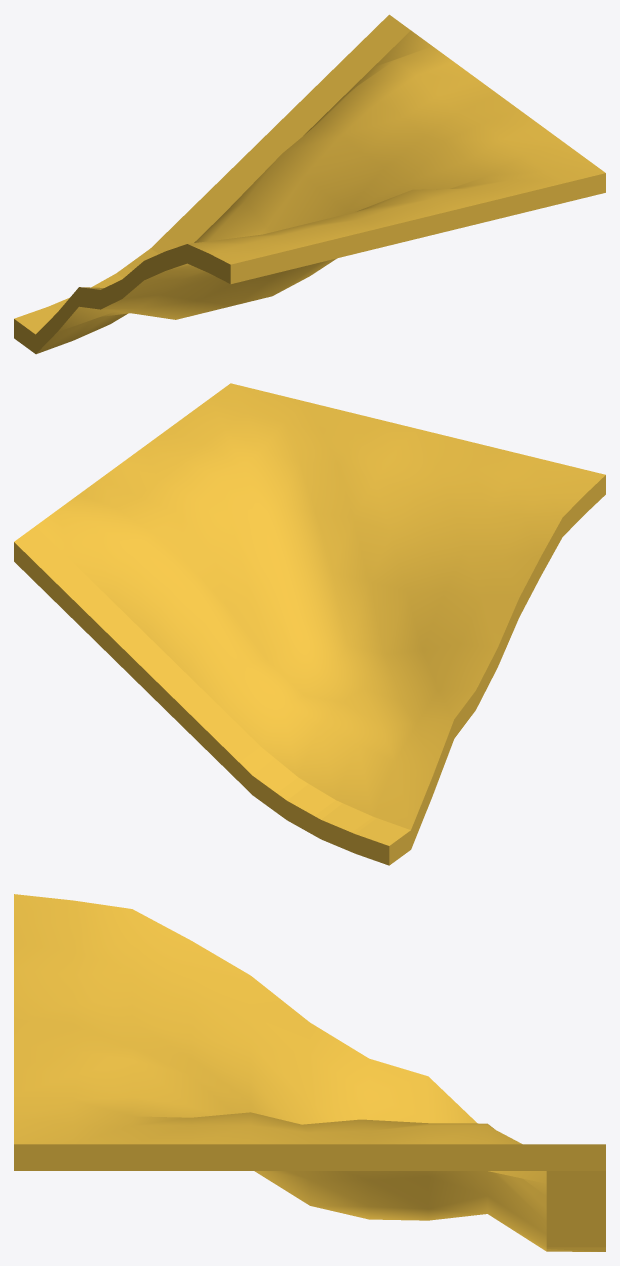
File: Steil - Unten - Ecke Invertiert x - b.fbx
3 views of the same model, one above another, from view 1: azimuth 30°, elevation 25°; view 2: azimuth 150°, elevation 25°; view 3: azimuth 270°, elevation 25° (orthographic). The views are drawn at different scales.
Parts seen in each view (by area): view 1: Steil - Unten - Ecke Invertiert x - b; view 2: Steil - Unten - Ecke Invertiert x - b; view 3: Steil - Unten - Ecke Invertiert x - b.
Boxes of the visible parts, x1=… form: Steil - Unten - Ecke Invertiert x - b: x1=14, y1=14, x2=605, y2=354; Steil - Unten - Ecke Invertiert x - b: x1=14, y1=383, x2=605, y2=865; Steil - Unten - Ecke Invertiert x - b: x1=14, y1=894, x2=605, y2=1251.
Bounding box in the file's own units: 394 × 233 × 394.
